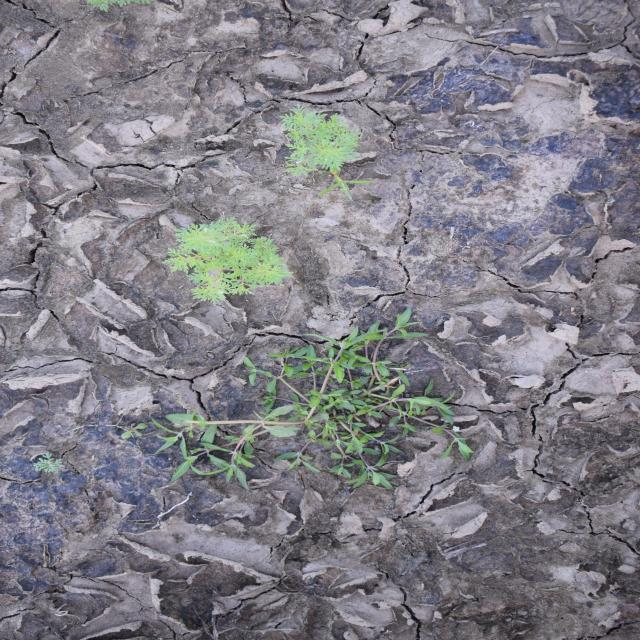Eclipta: (150, 306, 477, 493)
Ragweed: (160, 215, 294, 306), (279, 102, 362, 178), (29, 452, 67, 475), (84, 1, 156, 13)
